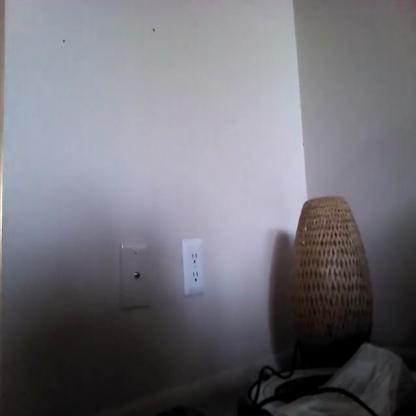OUTLET: (182, 240, 204, 297)
